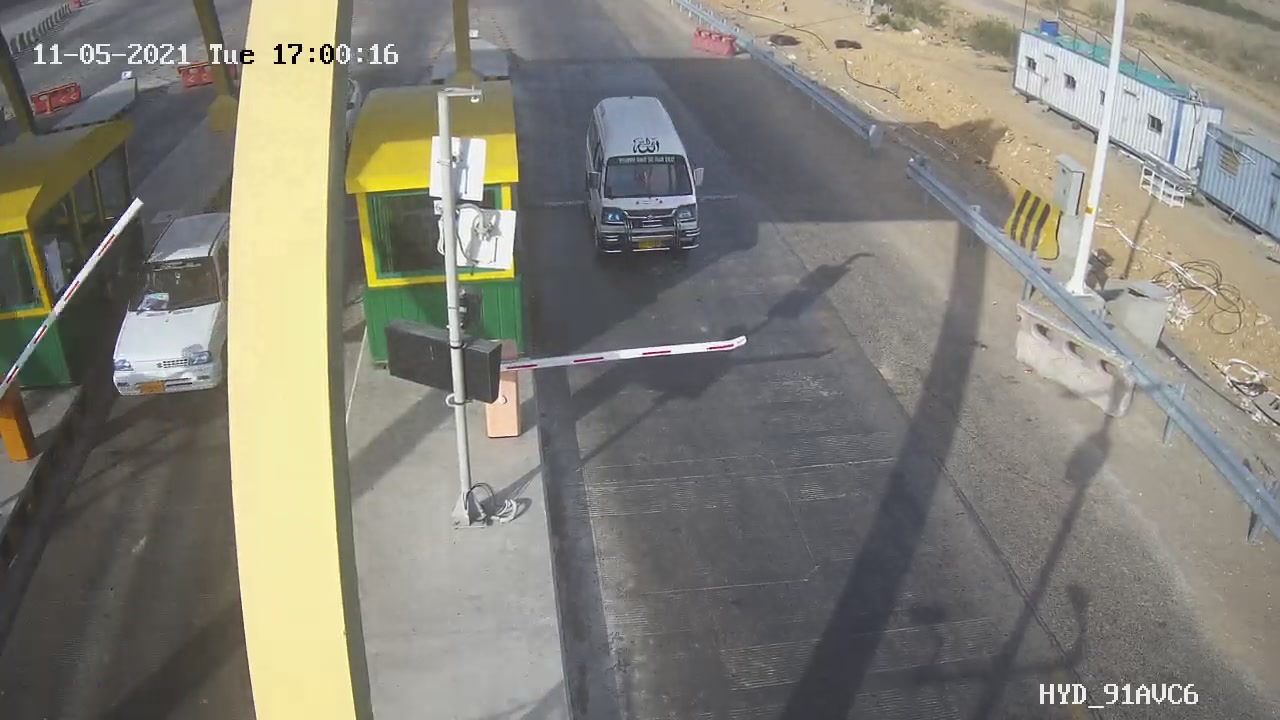F1: (565, 83, 731, 278)
